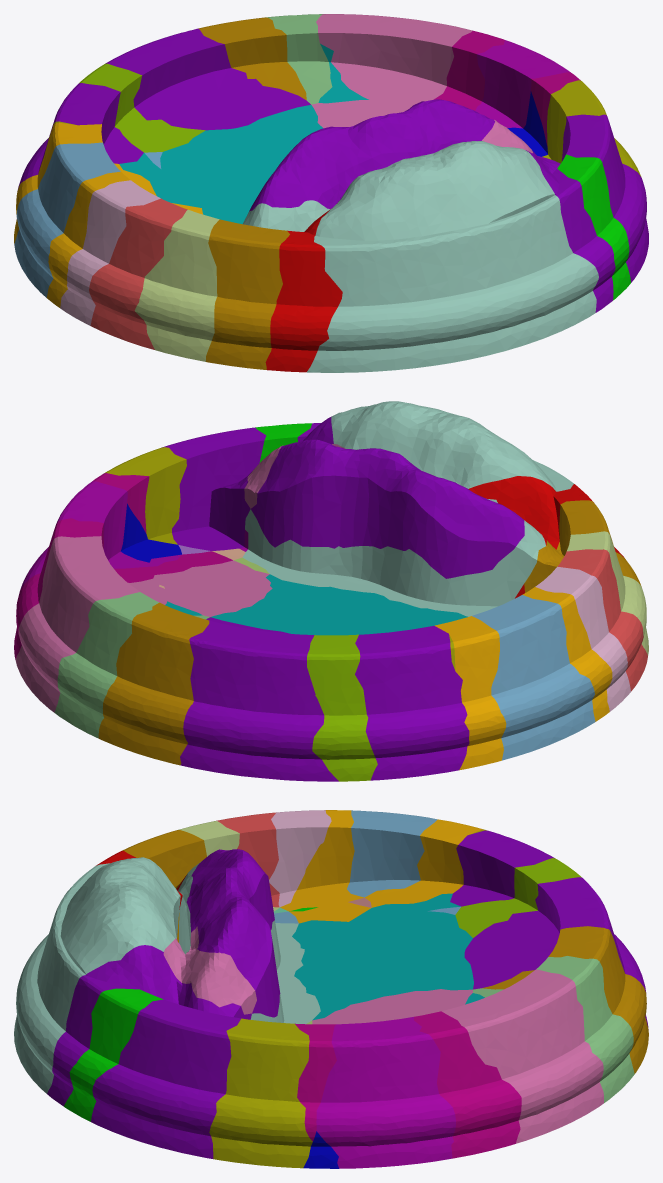
File: fractured_52_48pcs.glb
The picture shows the model from 3 angles, top to bottom: view 1: azimuth 30°, elevation 25°; view 2: azimuth 150°, elevation 25°; view 3: azimuth 270°, elevation 25°; orthographic projection.
Parts seen in each view (by area): view 1: piece_13.obj, piece_9.obj, piece_3.obj, piece_7.obj, piece_5.obj, piece_26.obj, piece_14.obj, piece_18.obj, piece_1.obj, piece_4.obj, piece_0.obj, piece_15.obj (+13 smaller); view 2: piece_9.obj, piece_13.obj, piece_7.obj, piece_3.obj, piece_25.obj, piece_4.obj, piece_8.obj, piece_0.obj, piece_5.obj, piece_22.obj, piece_11.obj, piece_15.obj (+12 smaller); view 3: piece_9.obj, piece_13.obj, piece_3.obj, piece_20.obj, piece_5.obj, piece_2.obj, piece_0.obj, piece_7.obj, piece_24.obj, piece_27.obj, piece_4.obj, piece_11.obj (+11 smaller).
Boxes of the visible parts, <box> form: piece_13.obj: <box>243,141,598,372</box>; piece_9.obj: <box>249,99,648,312</box>; piece_3.obj: <box>311,14,472,128</box>; piece_7.obj: <box>105,28,310,130</box>; piece_5.obj: <box>119,105,323,224</box>; piece_26.obj: <box>206,219,289,369</box>; piece_14.obj: <box>134,209,219,361</box>; piece_18.obj: <box>265,203,342,372</box>; piece_1.obj: <box>89,198,187,349</box>; piece_4.obj: <box>14,142,120,297</box>; piece_0.obj: <box>14,122,202,307</box>; piece_15.obj: <box>60,180,160,325</box>; piece_9.obj: <box>193,416,524,578</box>; piece_13.obj: <box>242,401,573,616</box>; piece_7.obj: <box>180,617,338,781</box>; piece_3.obj: <box>15,536,272,712</box>; piece_25.obj: <box>355,626,469,780</box>; piece_4.obj: <box>472,595,595,760</box>; piece_8.obj: <box>98,602,209,765</box>; piece_0.obj: <box>434,587,612,770</box>; piece_5.obj: <box>210,574,467,635</box>; piece_22.obj: <box>307,634,377,781</box>; piece_11.obj: <box>54,592,209,738</box>; piece_15.obj: <box>535,566,630,711</box>; piece_9.obj: <box>47,849,280,1148</box>; piece_13.obj: <box>14,857,320,1093</box>; piece_3.obj: <box>312,969,603,1143</box>; piece_20.obj: <box>316,1017,455,1168</box>; piece_5.obj: <box>292,893,473,1020</box>; piece_2.obj: <box>209,1018,312,1168</box>; piece_0.obj: <box>280,810,483,923</box>; piece_7.obj: <box>464,877,648,1029</box>; piece_24.obj: <box>414,1011,521,1158</box>; piece_27.obj: <box>152,1013,241,1158</box>; piece_4.obj: <box>347,810,437,897</box>; piece_11.obj: <box>473,956,634,1102</box>.
Bounding box in the file's own units: 0.9999 × 0.2801 × 1.
